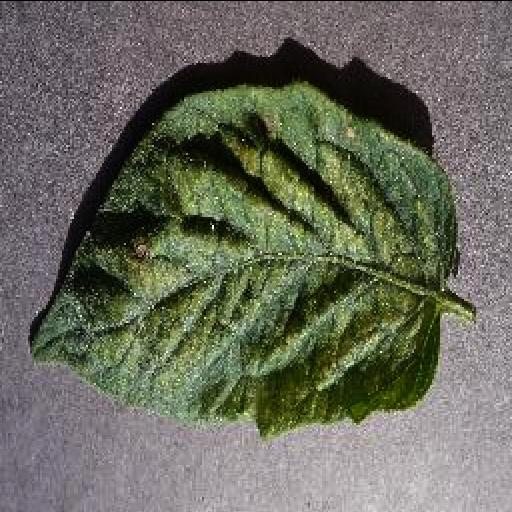disease_tomato: (26, 80, 460, 432)
